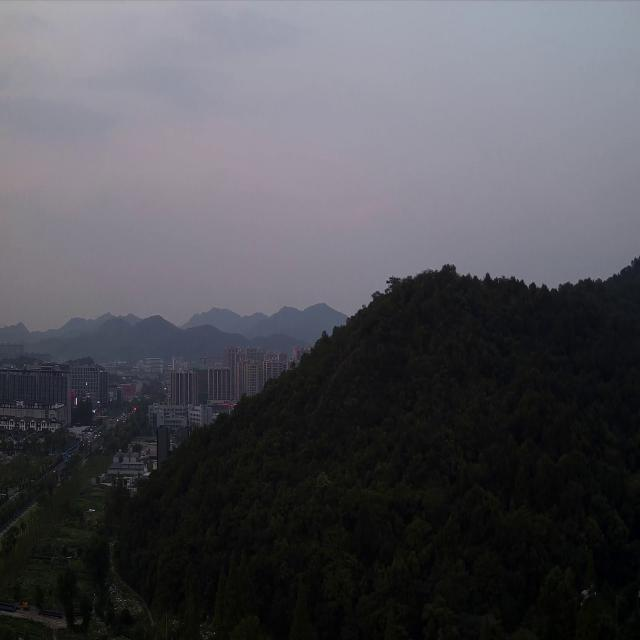UAV: (574, 585, 596, 606)
